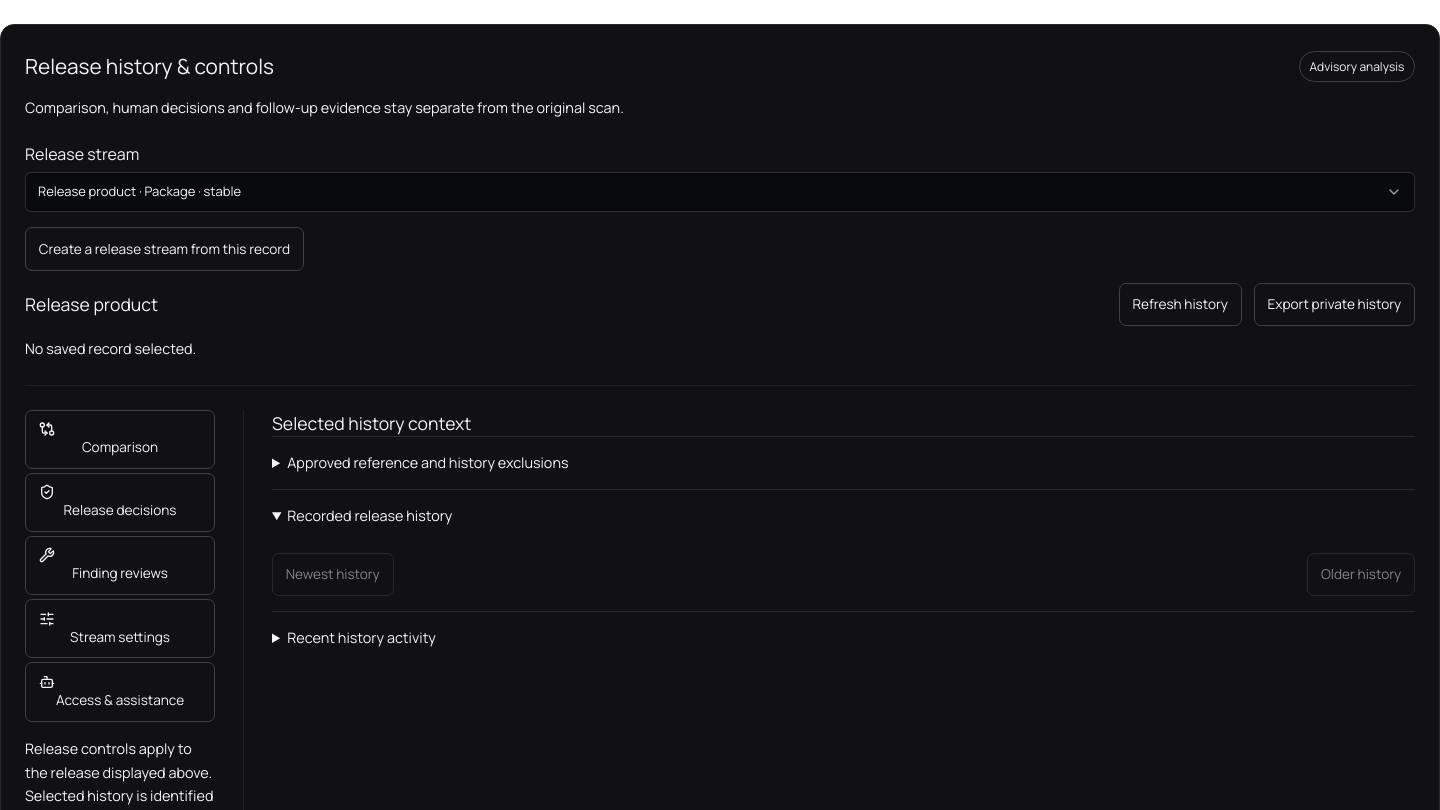
does not download a history export with an unconfirmed workspace
Click the button "Export private history" at (1334, 304), box [1254,283,1415,326]
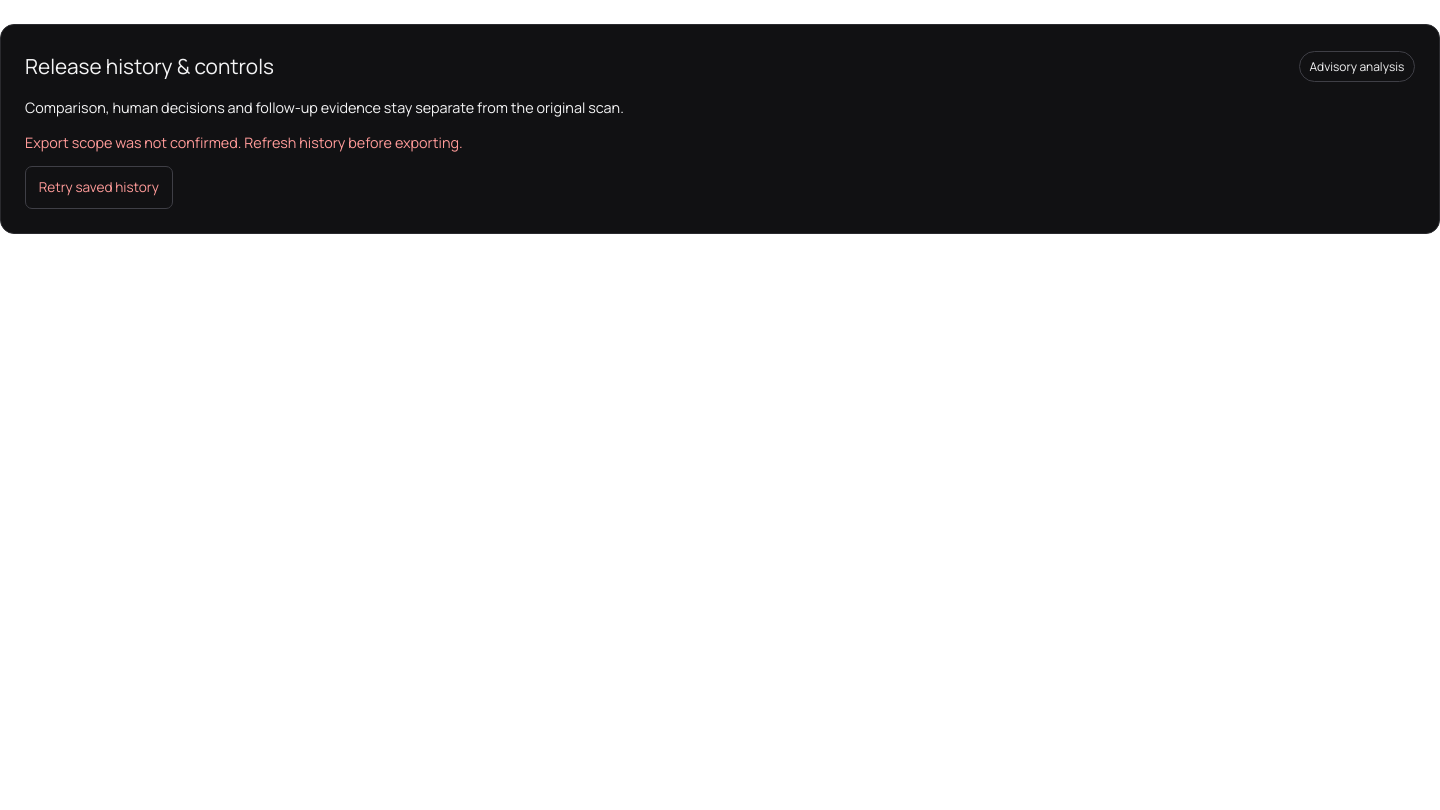
expect the text "Export scope was not confirmed. Refresh history before exporting." is shown: met, box [25,133,463,152]
